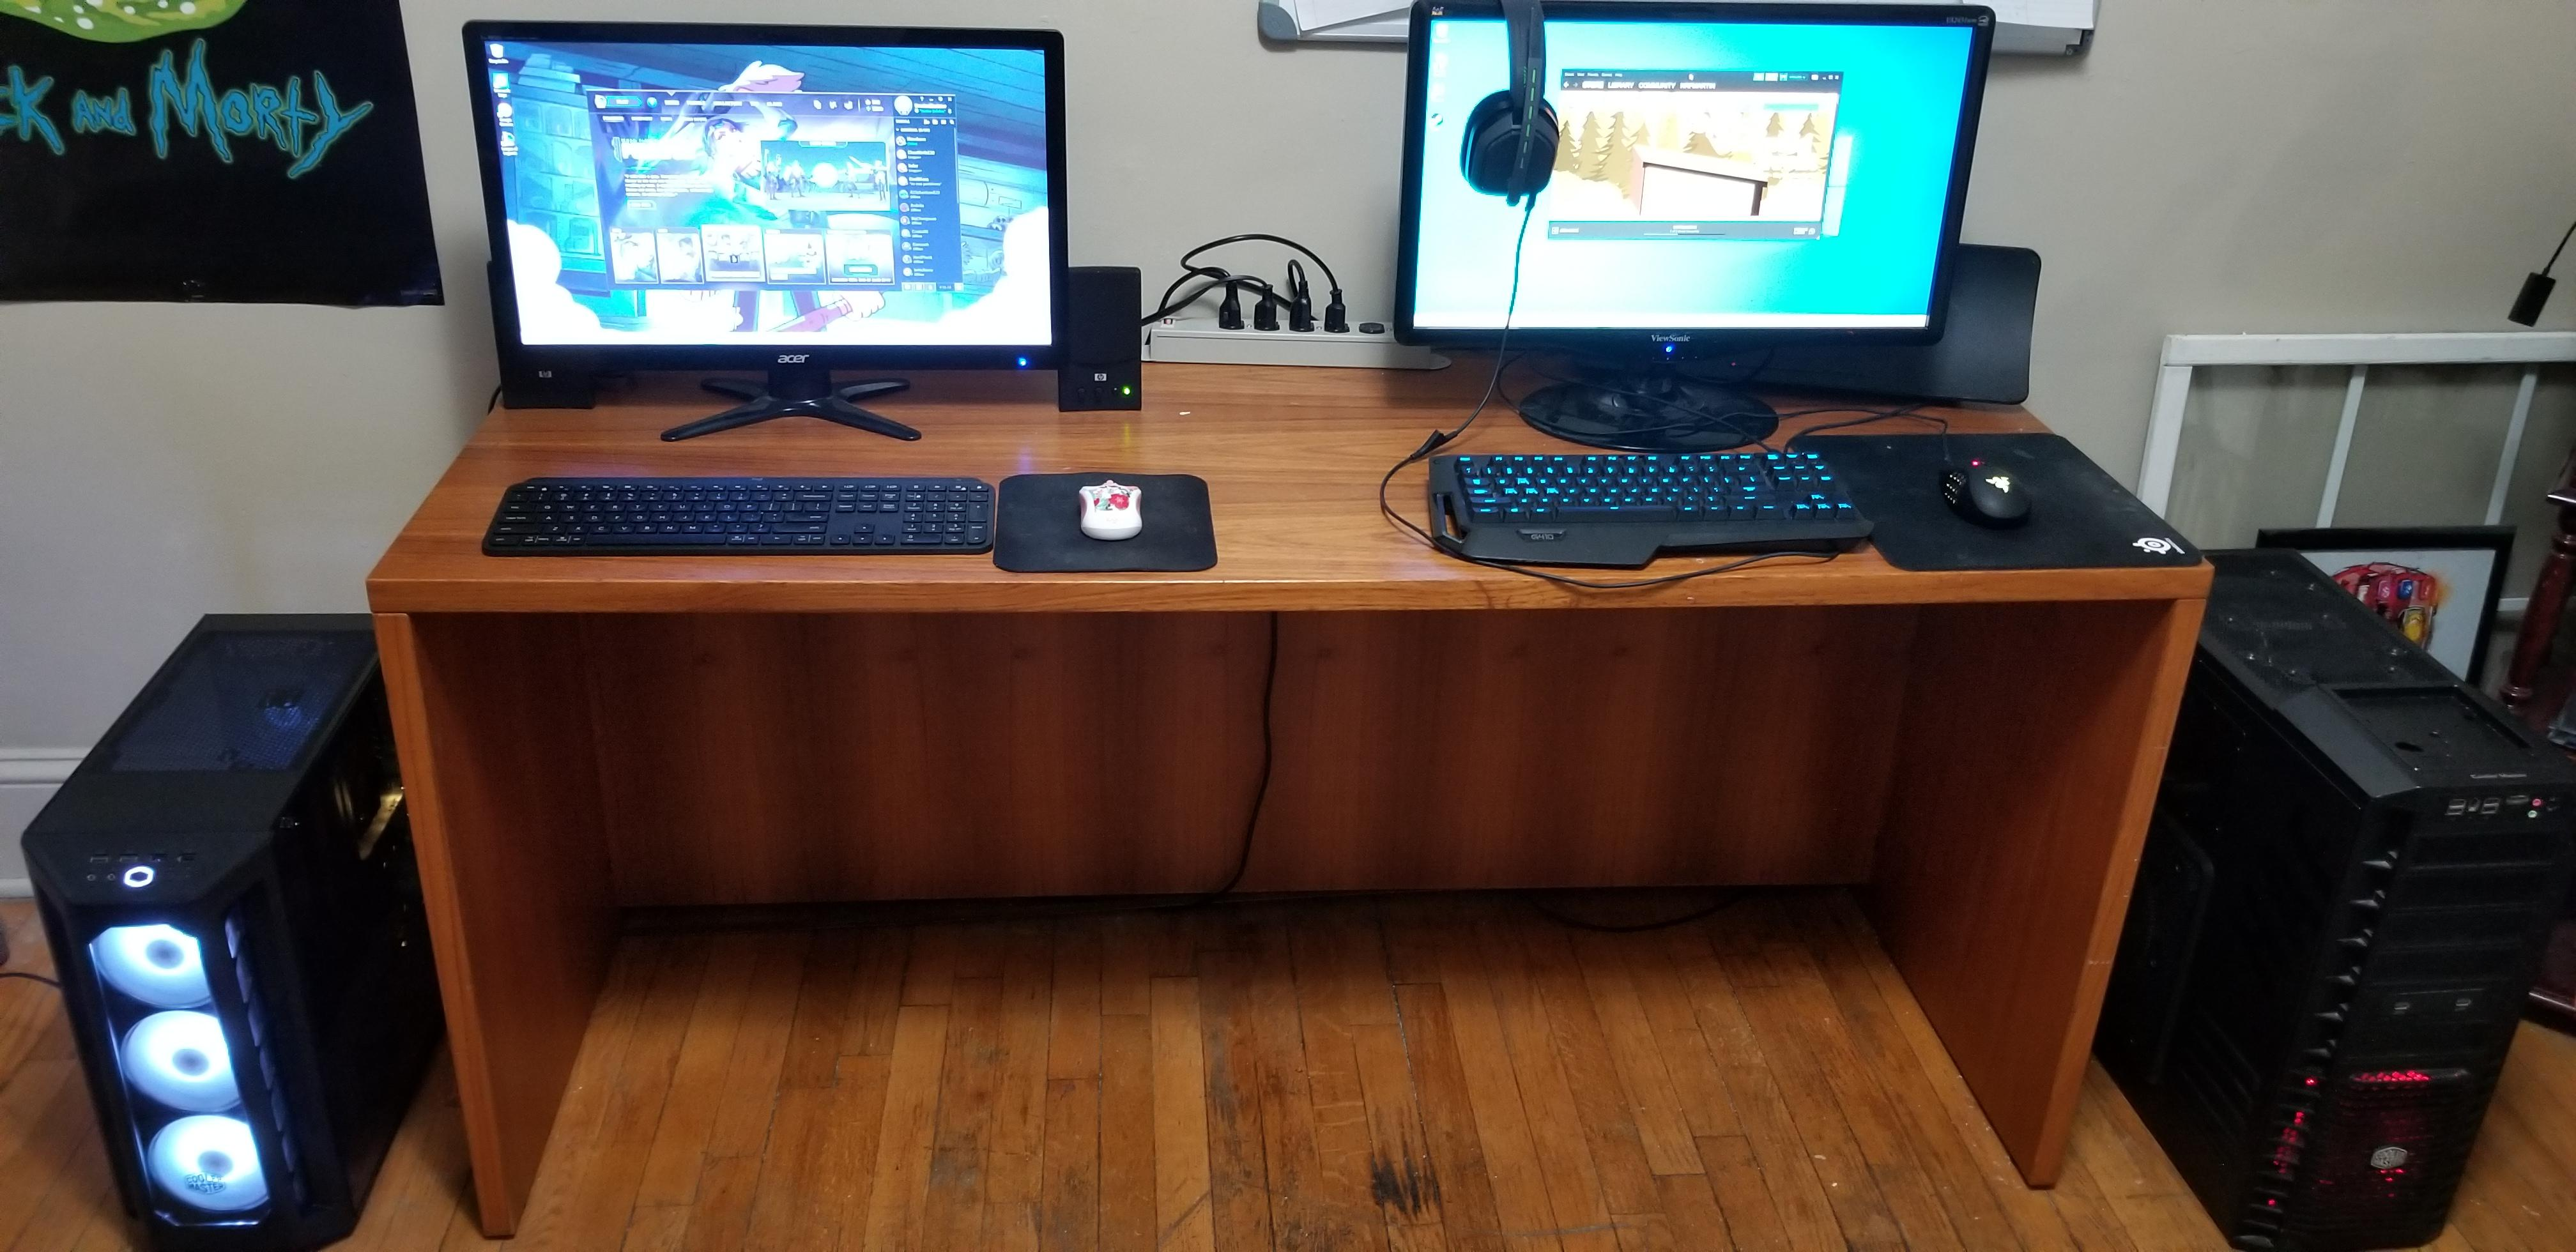Decoration (Picture): (0, 0, 447, 327)
Desk (Generic): (350, 373, 2218, 1252)
Desktop (Windows): (2086, 541, 2576, 1252), (16, 605, 445, 1247)
External Speakers (Generic): (486, 253, 586, 409), (1051, 265, 1143, 424)
Headphones: (1462, 0, 1561, 220)
Keyboard (Gaming): (1410, 432, 1874, 580)
Keyboard (Generic): (473, 467, 1001, 562)
Monitor (Landscape): (1395, 0, 1993, 445), (460, 13, 1071, 442)
Mouse (Gaming): (1932, 453, 2040, 529)
Mouse (Generic): (1074, 475, 1143, 542)
Mousepad (Gaming): (1787, 426, 2211, 580)
Mousepad (Generic): (987, 473, 1224, 572)
Power Strip: (1145, 269, 1457, 378)
